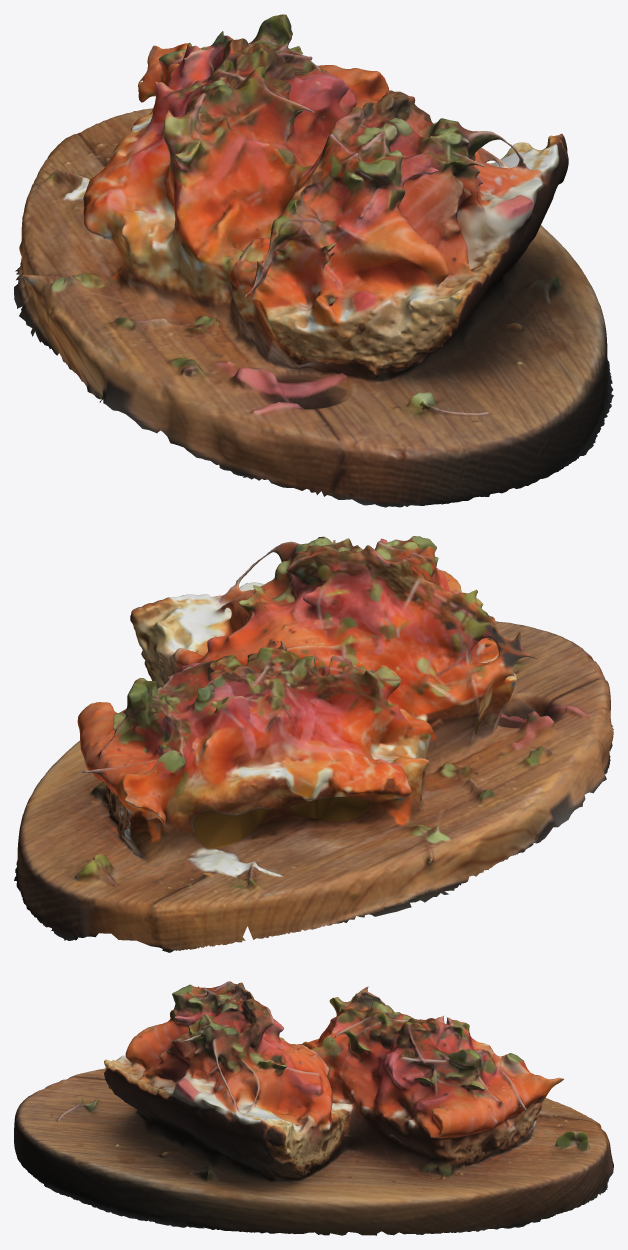
Rendered from salmon_tartine.glb.
3 views of the same model, one above another, from view 1: azimuth 30°, elevation 25°; view 2: azimuth 150°, elevation 25°; view 3: azimuth 270°, elevation 25° (orthographic). The views are drawn at different scales.
Visible parts, largest first — view 1: Object_2, Object_3; view 2: Object_2, Object_3, Object_4; view 3: Object_2, Object_3.
Part boxes in pixels (bbox=[...]): Object_2: bbox=[14, 14, 613, 507]; Object_3: bbox=[198, 66, 609, 500]; Object_2: bbox=[14, 543, 613, 952]; Object_3: bbox=[190, 536, 550, 707]; Object_4: bbox=[192, 717, 478, 848]; Object_2: bbox=[18, 986, 613, 1235]; Object_3: bbox=[14, 981, 407, 1209].
Bounding box in the file's own units: 0.2012 × 0.1091 × 0.3255.
Materials: 2 (1 with a texture image).
